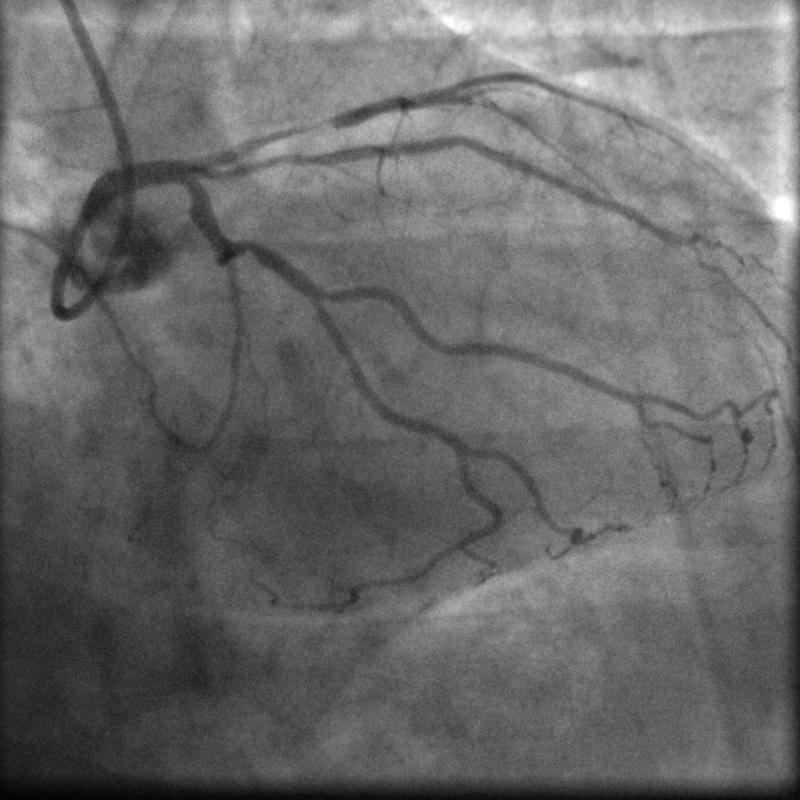Stenosis: (237, 237, 256, 256)
